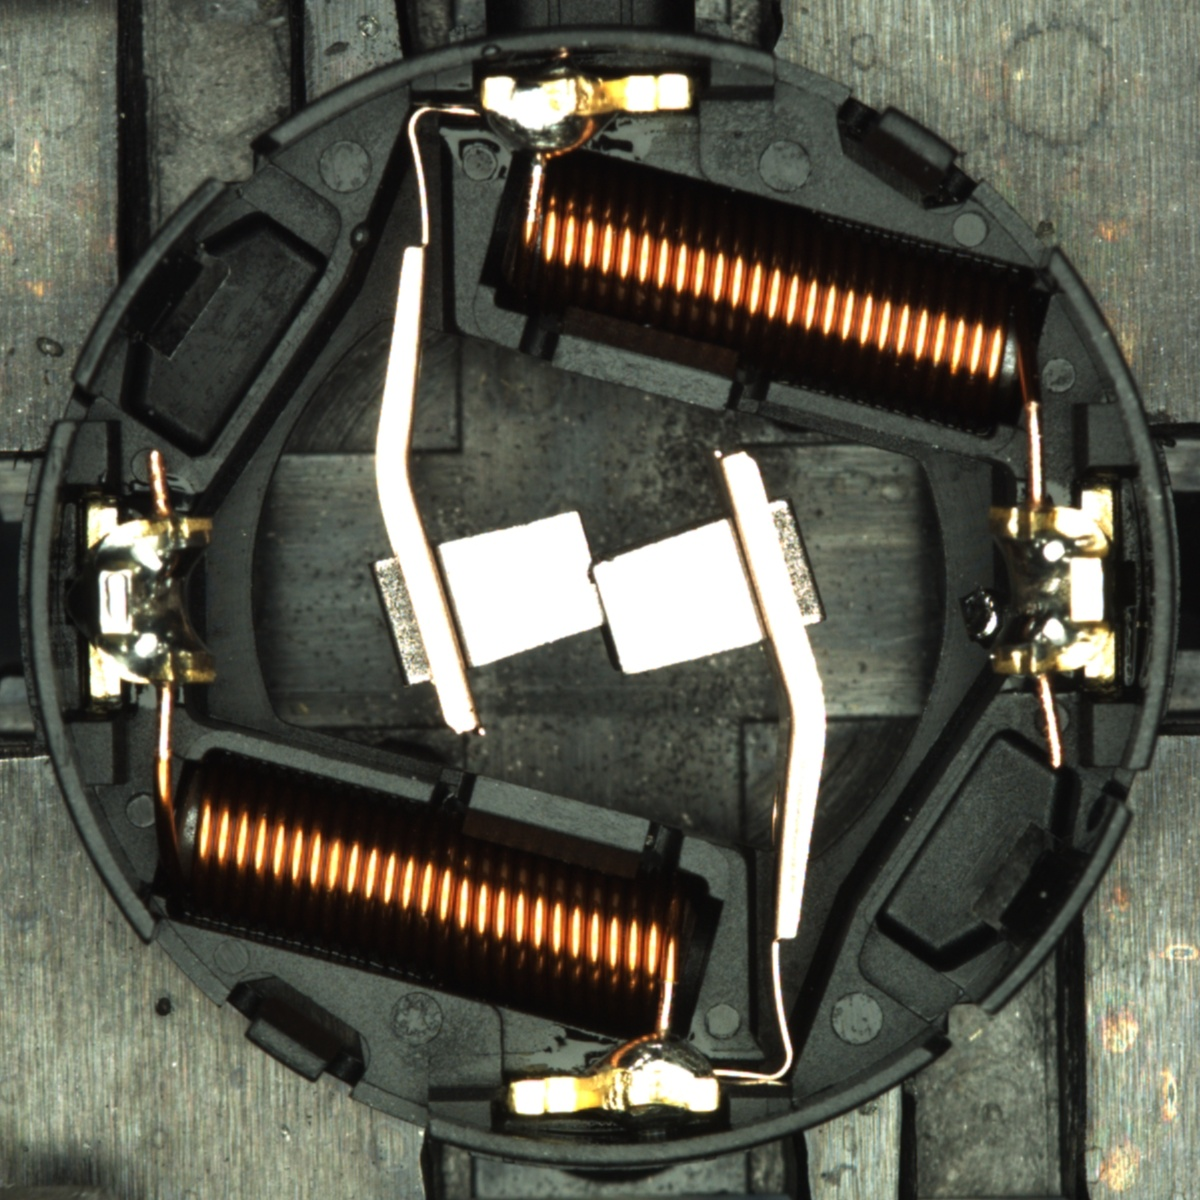1: (253, 31, 482, 255), (711, 929, 941, 1153)
2: (711, 31, 941, 255), (253, 929, 482, 1153)
3: (23, 255, 253, 480), (941, 704, 1169, 929)
4: (253, 255, 482, 480), (711, 704, 941, 929)
5: (482, 143, 711, 368), (482, 816, 711, 1041)
6: (711, 255, 941, 480), (253, 704, 482, 929)
7: (941, 255, 1169, 480), (23, 704, 253, 929)
cacbon: (400, 498, 793, 686)
chau_dien: (984, 484, 1122, 686), (81, 499, 220, 699)
tay_choi: (481, 71, 696, 165), (508, 1026, 720, 1119)
thanh_de: (953, 786, 1140, 1031), (59, 164, 244, 404)
vun_chi: (960, 590, 1002, 643)
